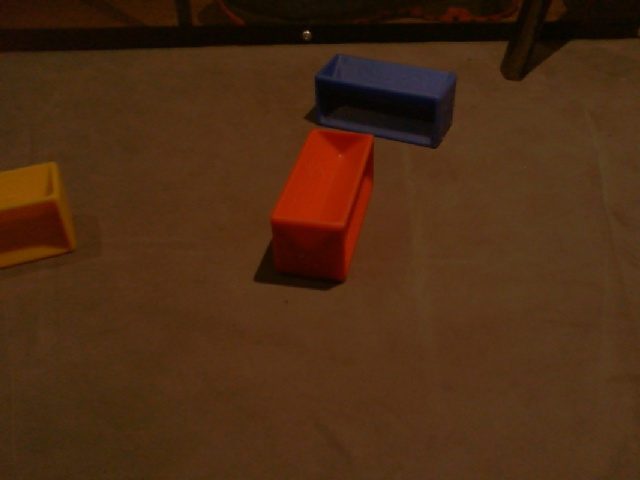BlueSample: (315, 53, 458, 148)
RedSample: (267, 128, 376, 284)
YellowSample: (1, 160, 80, 270)
